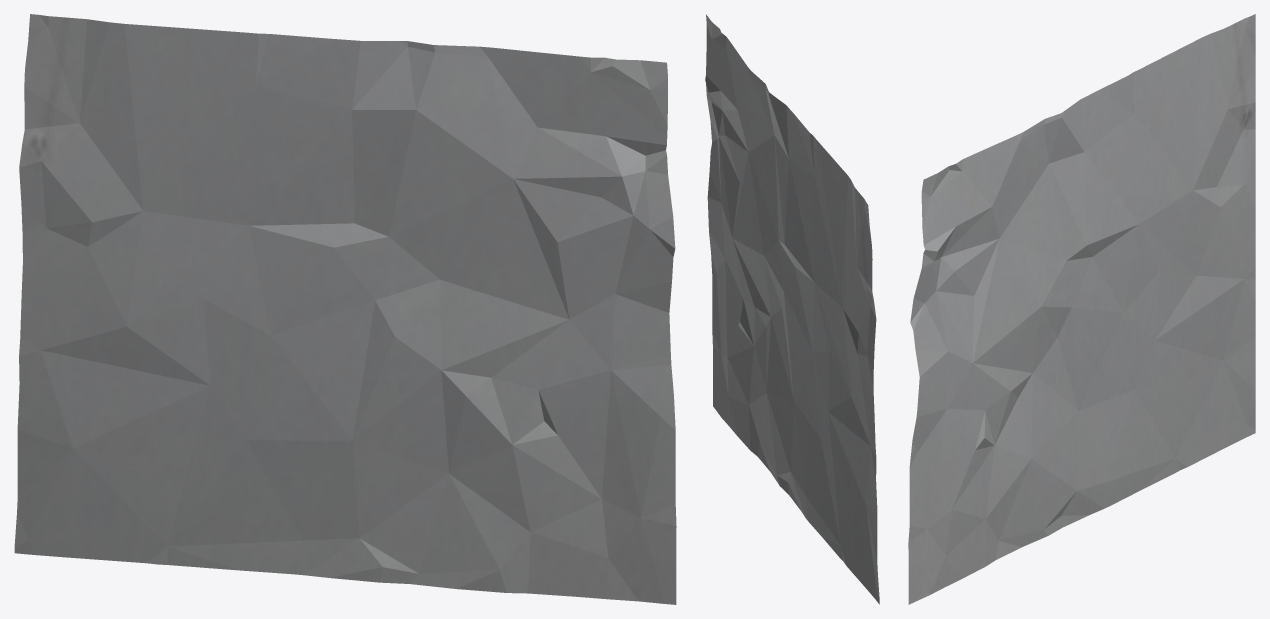
The picture shows the model from 3 angles, left to right: view 1: azimuth 30°, elevation 25°; view 2: azimuth 150°, elevation 25°; view 3: azimuth 270°, elevation 25°; orthographic projection. The views are drawn at different scales.
Bounding box in the file's own units: 0.7257 × 0.8374 × 0.6194.
3 materials, 3 textured.
